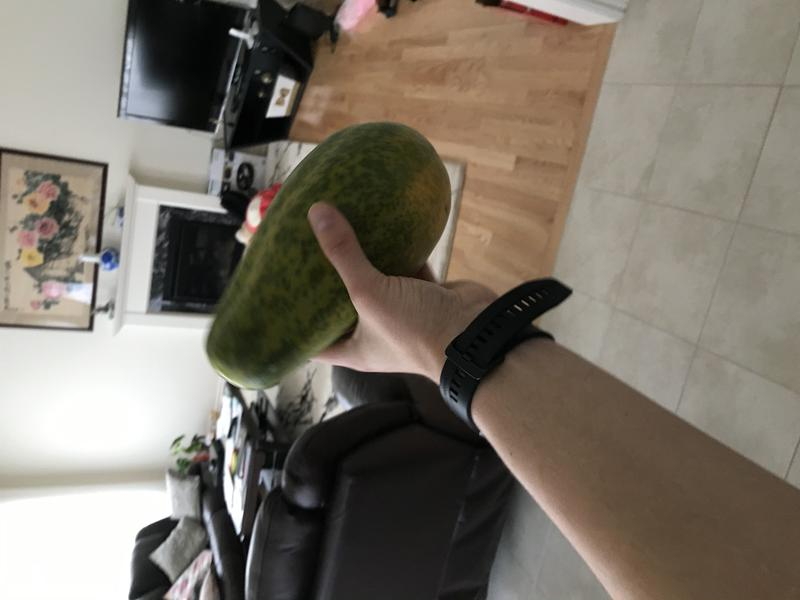papaya: (196, 110, 458, 397)
